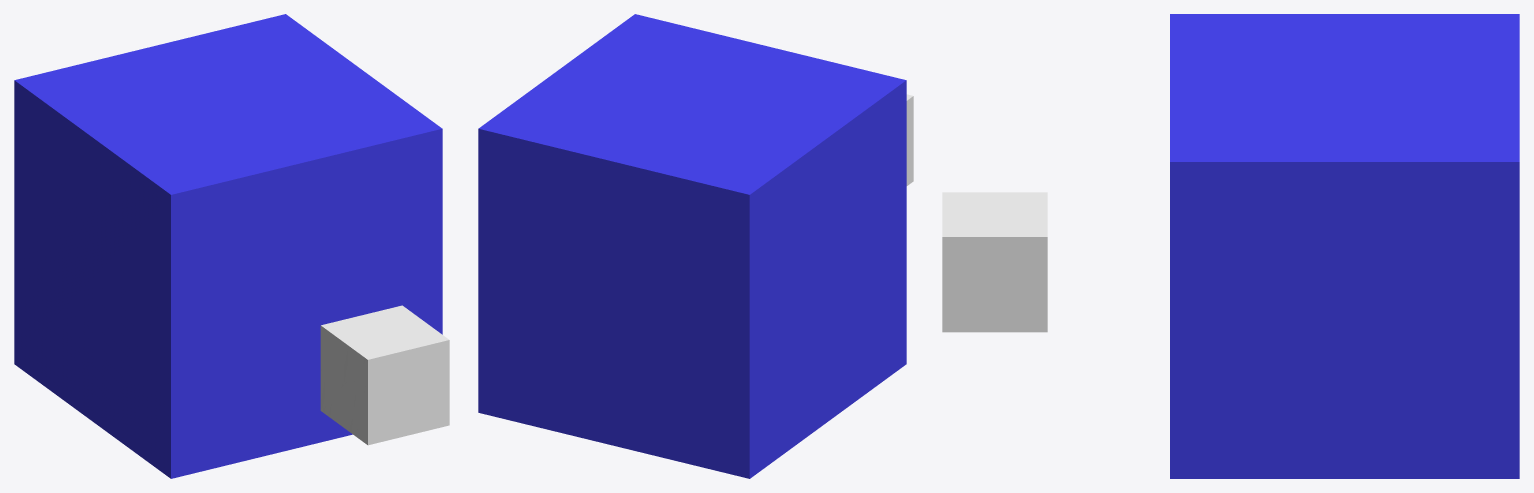
File: minimap_room_1_door.fbx
The picture shows the model from 3 angles, left to right: view 1: azimuth 30°, elevation 25°; view 2: azimuth 150°, elevation 25°; view 3: azimuth 270°, elevation 25°; orthographic projection. The views are drawn at different scales.
Visible parts, largest first — view 1: minimap_room_1_door; view 2: minimap_room_1_door; view 3: minimap_room_1_door.
Part boxes in pixels (bbox=[...]): minimap_room_1_door: bbox=[14, 14, 449, 478]; minimap_room_1_door: bbox=[478, 14, 913, 478]; minimap_room_1_door: bbox=[942, 14, 1519, 478].
Size of the model in its own units: 0.5 by 0.5 by 0.8252.
